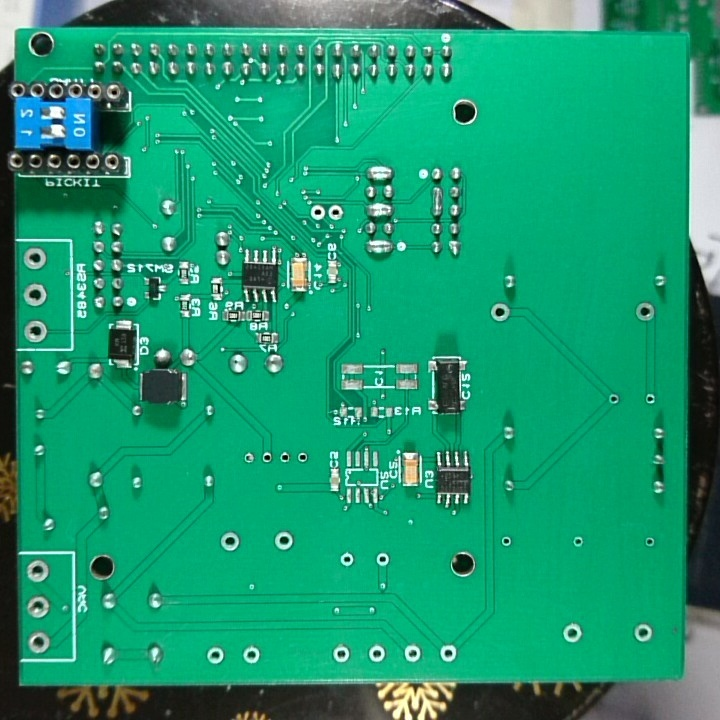F: (20, 244, 51, 275), (23, 556, 52, 586), (25, 629, 54, 656), (25, 593, 52, 622), (22, 316, 49, 344), (22, 282, 49, 309), (271, 527, 297, 555), (239, 643, 266, 668), (217, 529, 242, 555), (559, 620, 585, 644), (328, 642, 354, 666), (401, 641, 424, 667), (437, 641, 461, 665), (203, 643, 226, 667), (634, 299, 656, 324), (632, 621, 654, 645), (326, 198, 345, 225), (367, 642, 389, 665), (489, 302, 512, 323), (307, 200, 327, 224), (373, 549, 392, 572), (336, 549, 357, 569), (274, 448, 294, 467), (294, 446, 311, 468), (568, 533, 586, 552), (257, 448, 276, 466), (605, 389, 622, 409), (497, 532, 514, 551), (240, 449, 257, 467), (643, 389, 658, 406), (642, 534, 657, 551)
P: (363, 238, 395, 258), (365, 163, 397, 182), (363, 201, 396, 219), (429, 183, 445, 219)
